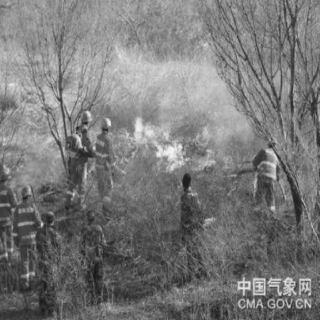Fire: (191, 124, 215, 168), (204, 211, 216, 227), (1, 135, 13, 147)
other: (254, 132, 284, 218)
